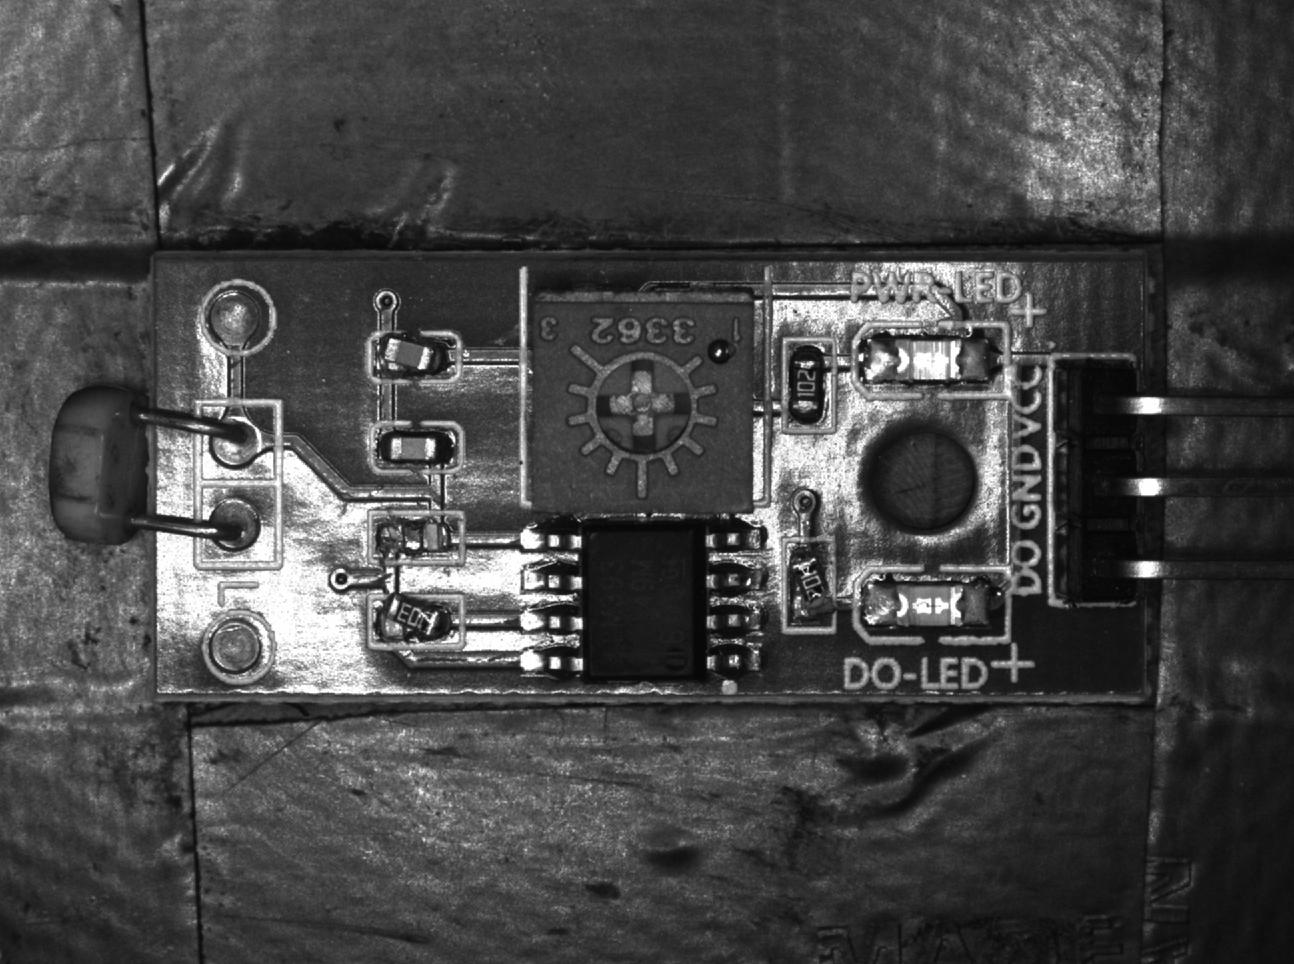lifted: (780, 535, 834, 632), (370, 593, 463, 646), (366, 331, 461, 381)
miss: (366, 509, 464, 564)
ok: (785, 338, 834, 435), (369, 424, 456, 477)
